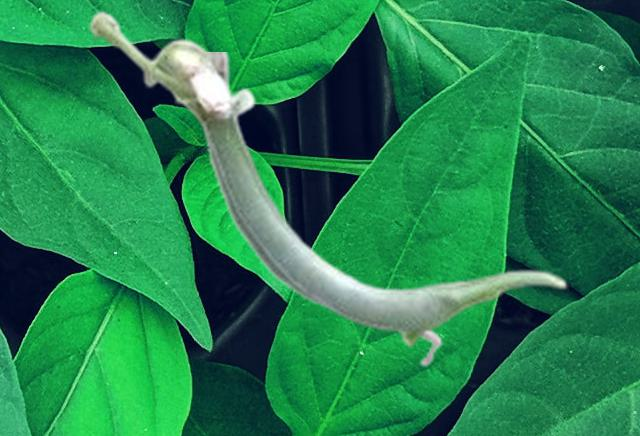french_bean: (88, 9, 567, 347), (199, 52, 442, 368)
